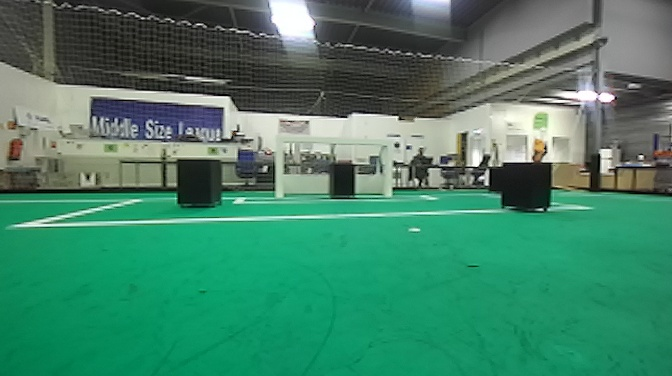goalpost: (378, 134, 397, 206), (273, 133, 287, 203)
